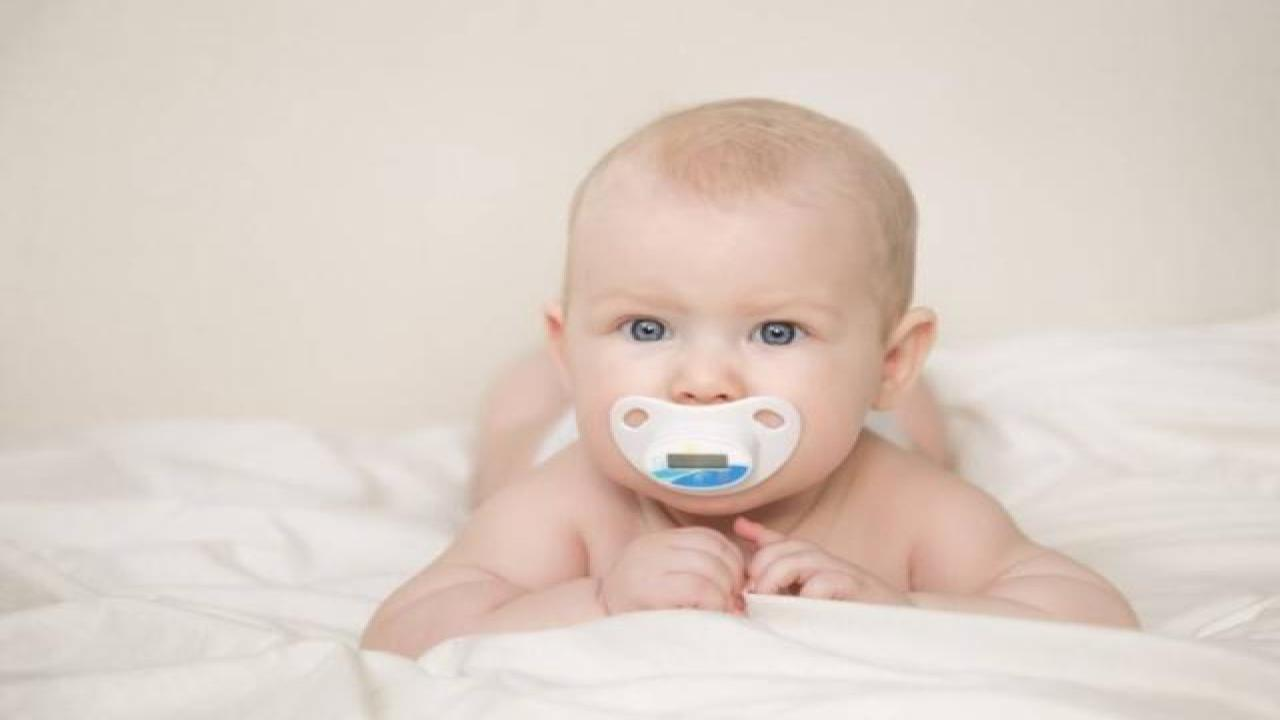hand: (731, 518, 922, 614), (595, 527, 747, 625)
